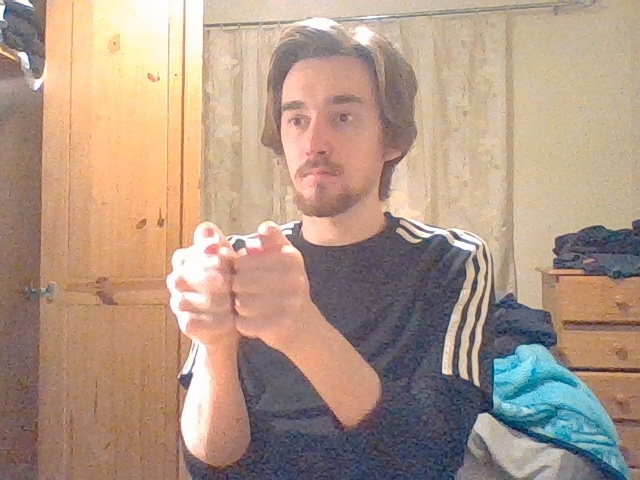brother: (165, 220, 312, 331)
